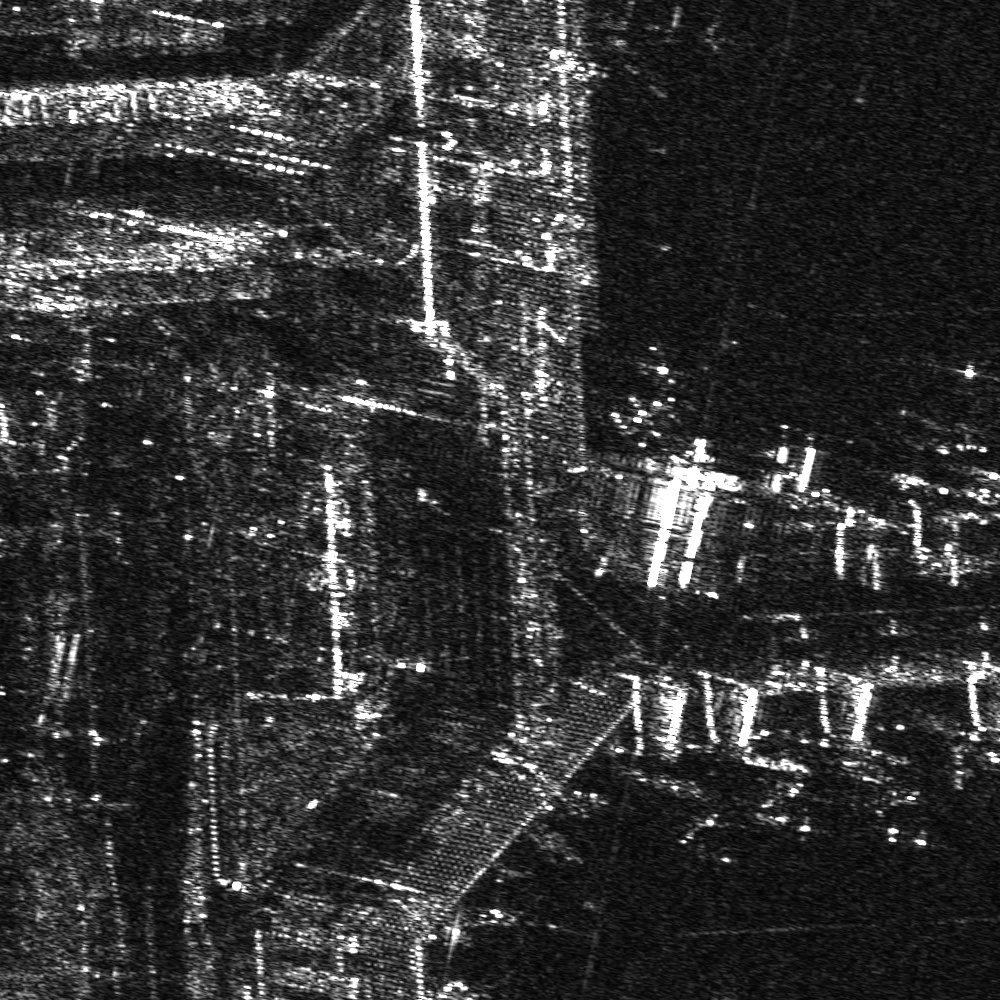A220: (757, 762, 831, 834)
Boeing737: (679, 791, 745, 868)
Boeing787: (865, 755, 929, 845)
